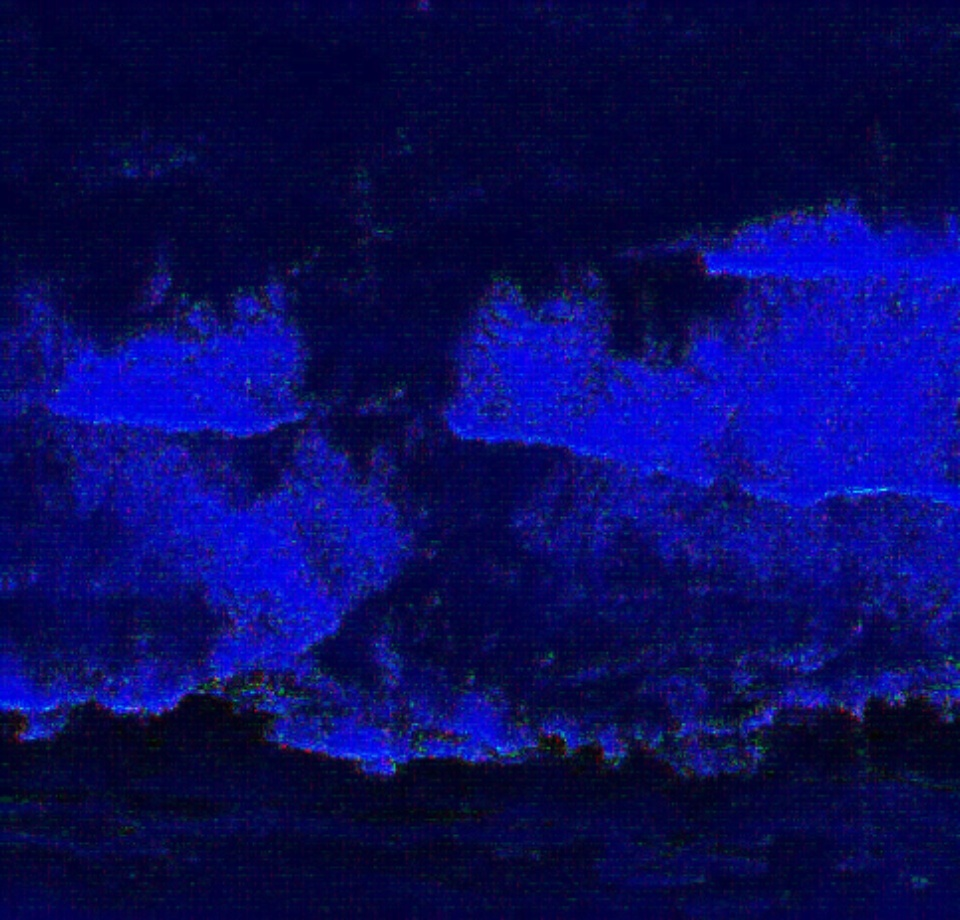rip_current: (199, 217, 618, 670)
